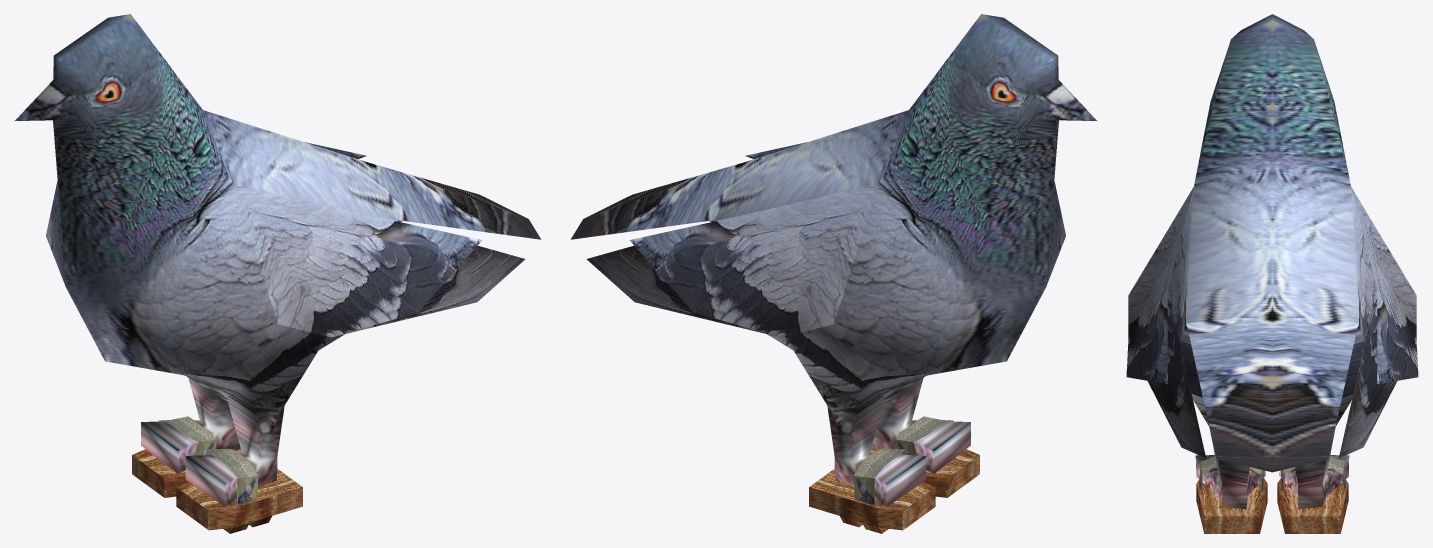
The model's file is Bedroom_pigeon.glb.
The picture shows the model from 3 angles, left to right: view 1: azimuth 30°, elevation 25°; view 2: azimuth 150°, elevation 25°; view 3: azimuth 270°, elevation 25°; orthographic projection. The views are drawn at different scales.
Visible parts, largest first — view 1: Cube.044; view 2: Cube.044; view 3: Cube.044.
Part boxes in pixels (bbox=[...]): Cube.044: bbox=[15, 14, 540, 533]; Cube.044: bbox=[571, 14, 1096, 533]; Cube.044: bbox=[1126, 14, 1418, 533].
Size of the model in its own units: 0.7053 by 0.665 by 0.3809.
Materials: 2 (2 with a texture image).
